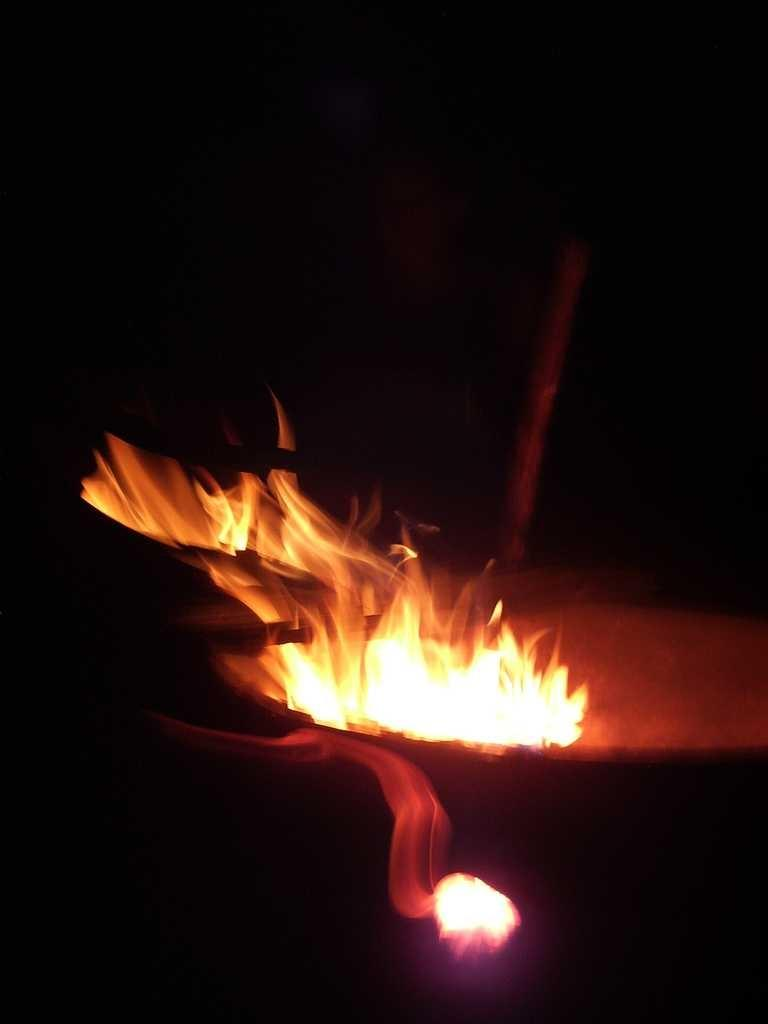fire: (107, 427, 609, 744), (421, 857, 561, 968)
